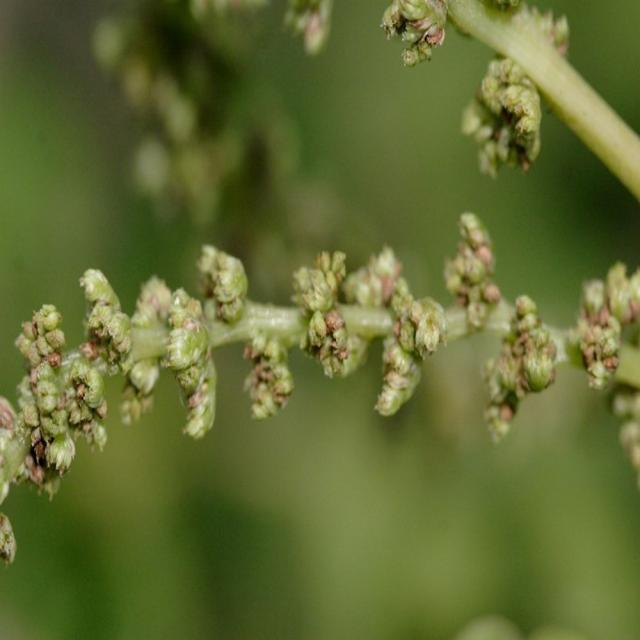Medicinal-Arive Dantu: (0, 216, 640, 555), (373, 0, 640, 231)
